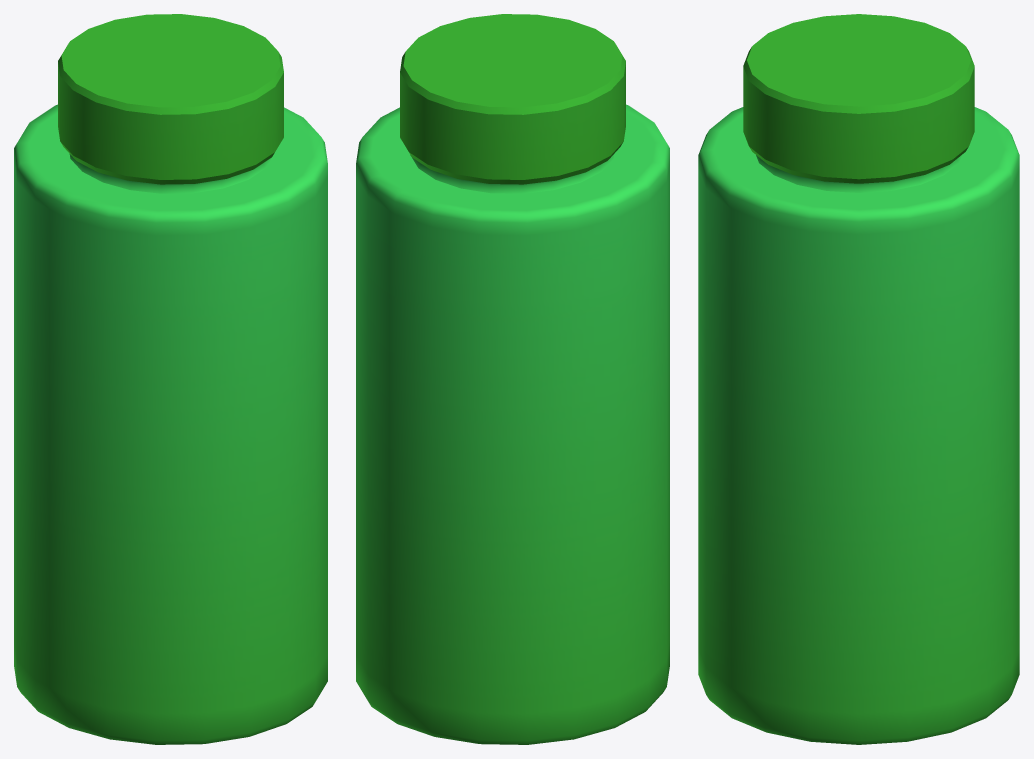
Rendered from bottle_flat_green.fbx.
3 renders of one model, left to right at view 1: azimuth 30°, elevation 25°; view 2: azimuth 150°, elevation 25°; view 3: azimuth 270°, elevation 25°, orthographic.
Parts seen in each view (by area): view 1: bottle_flat_green; view 2: bottle_flat_green; view 3: bottle_flat_green.
Part boxes in pixels (x1,y1,x2,y2): bottle_flat_green: (14,14,327,744); bottle_flat_green: (356,14,669,744); bottle_flat_green: (698,14,1019,744).
Size of the model in its own units: 107 by 234 by 110.
